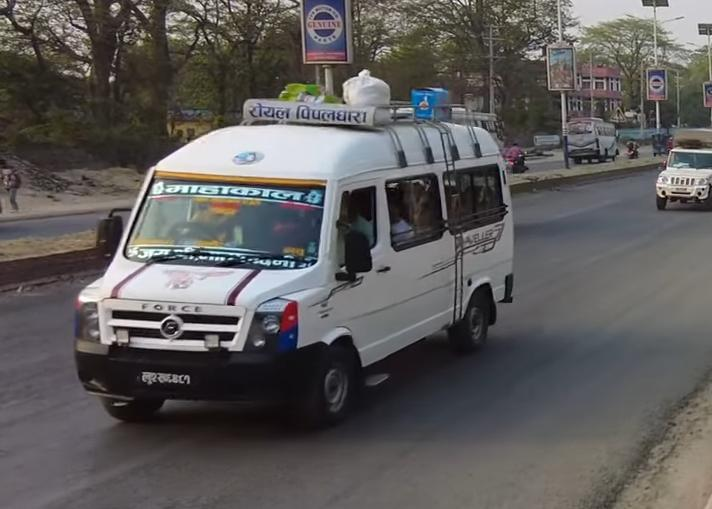bus: (560, 115, 623, 166)
micro_bus: (71, 93, 529, 436)
transport_vehicle: (654, 124, 712, 212)
